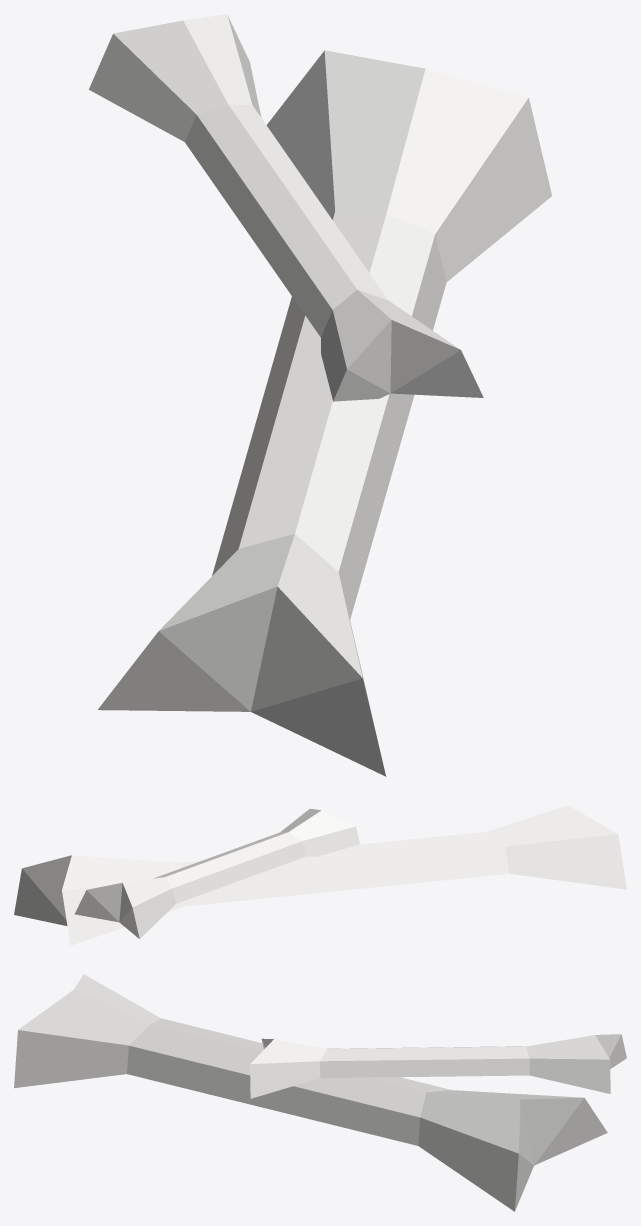
Rendered from Isl_4_Bones_1.fbx.
3 views of the same model, one above another, from view 1: azimuth 30°, elevation 25°; view 2: azimuth 150°, elevation 25°; view 3: azimuth 270°, elevation 25° (orthographic). The views are drawn at different scales.
Parts seen in each view (by area): view 1: Isl_4_Bones_1; view 2: Isl_4_Bones_1; view 3: Isl_4_Bones_1.
Part boxes in pixels (left/top/right/bottom): Isl_4_Bones_1: left=89, top=14, right=551, bottom=776; Isl_4_Bones_1: left=14, top=805, right=626, bottom=945; Isl_4_Bones_1: left=14, top=974, right=626, bottom=1211.
Size of the model in its own units: 47.78 by 57.06 by 14.65.
1 material, 1 textured.
